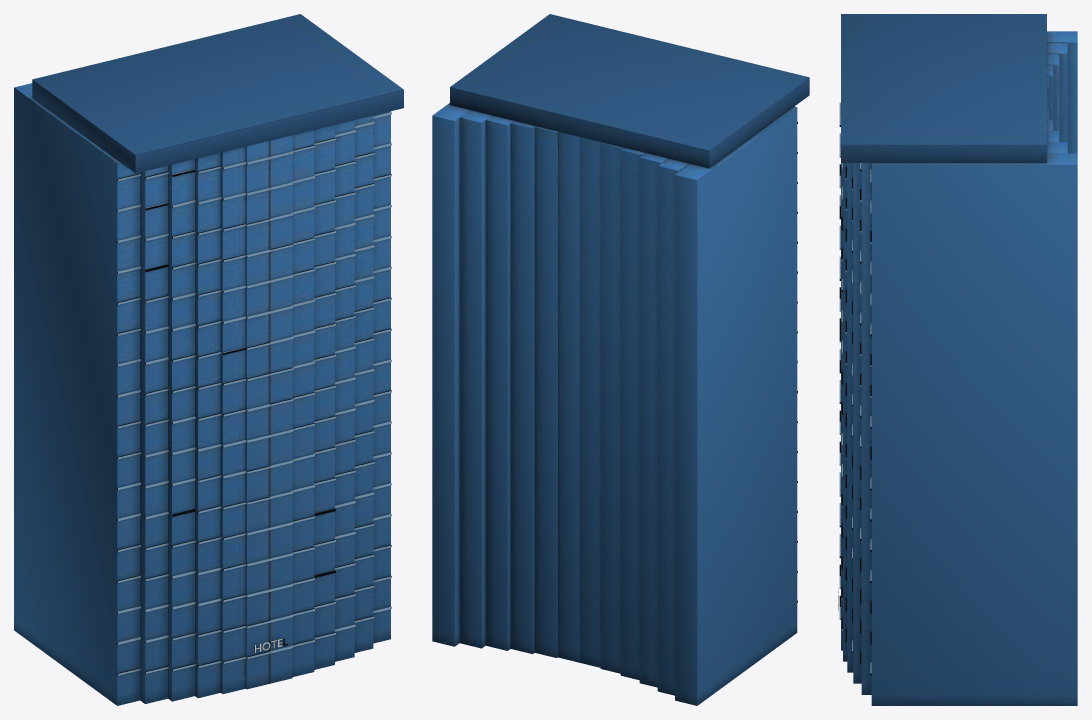
The model's file is jw_marriott.glb.
3 renders of one model, left to right at view 1: azimuth 30°, elevation 25°; view 2: azimuth 150°, elevation 25°; view 3: azimuth 270°, elevation 25°, orthographic. The views are drawn at different scales.
Parts seen in each view (by area): view 1: jw_marriott; view 2: jw_marriott; view 3: jw_marriott.
Boxes of the visible parts, <box> form: jw_marriott: <box>14,14,403,705</box>; jw_marriott: <box>432,14,809,705</box>; jw_marriott: <box>838,14,1077,705</box>.
Bounding box in the file's own units: 30.6 × 60 × 23.26.
Materials: 1 (1 with a texture image).
